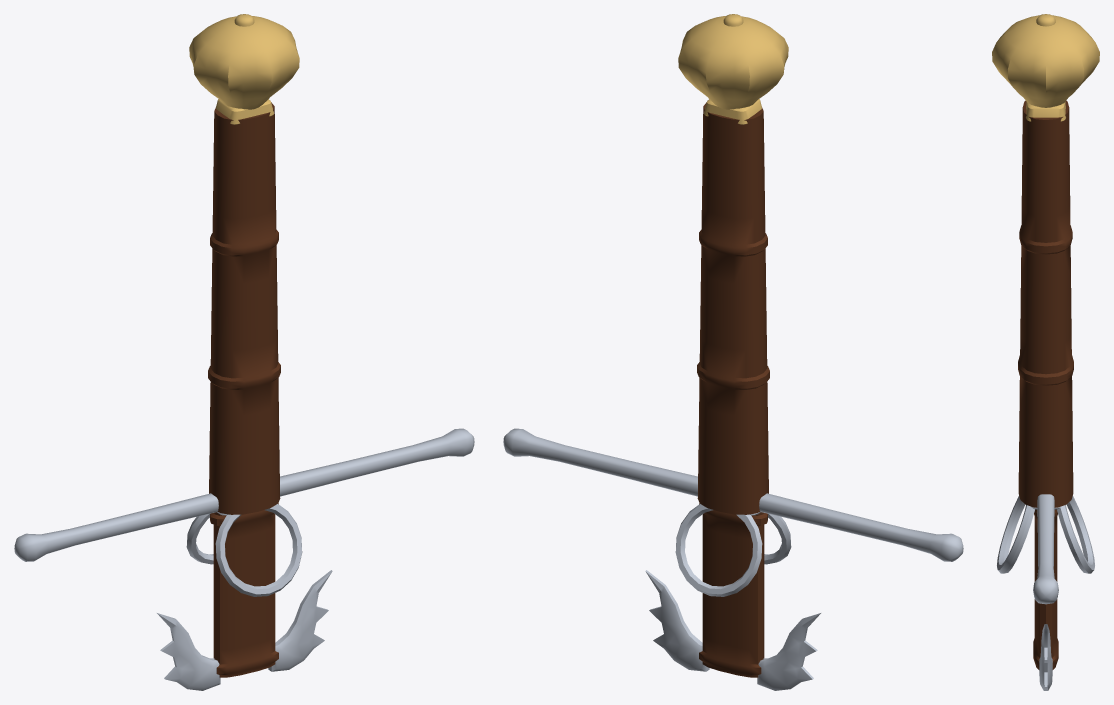
File: FlambergeHiltGame.fbx
3 renders of one model, left to right at view 1: azimuth 30°, elevation 25°; view 2: azimuth 150°, elevation 25°; view 3: azimuth 270°, elevation 25°, orthographic.
Parts seen in each view (by area): view 1: Grip, Guard, Pommel; view 2: Grip, Guard, Pommel; view 3: Grip, Pommel, Guard.
Part boxes in pixels (box(x1,y1,x2,y2)): Grip: box(208, 102, 280, 677); Guard: box(14, 428, 474, 690); Pommel: box(189, 14, 299, 124); Grip: box(697, 102, 769, 677); Guard: box(503, 428, 963, 690); Pommel: box(678, 14, 788, 124); Grip: box(1018, 100, 1073, 669); Pommel: box(992, 14, 1099, 121); Guard: box(997, 494, 1094, 690).
Size of the model in its own units: 1.8 by 2.5 by 0.3751.
